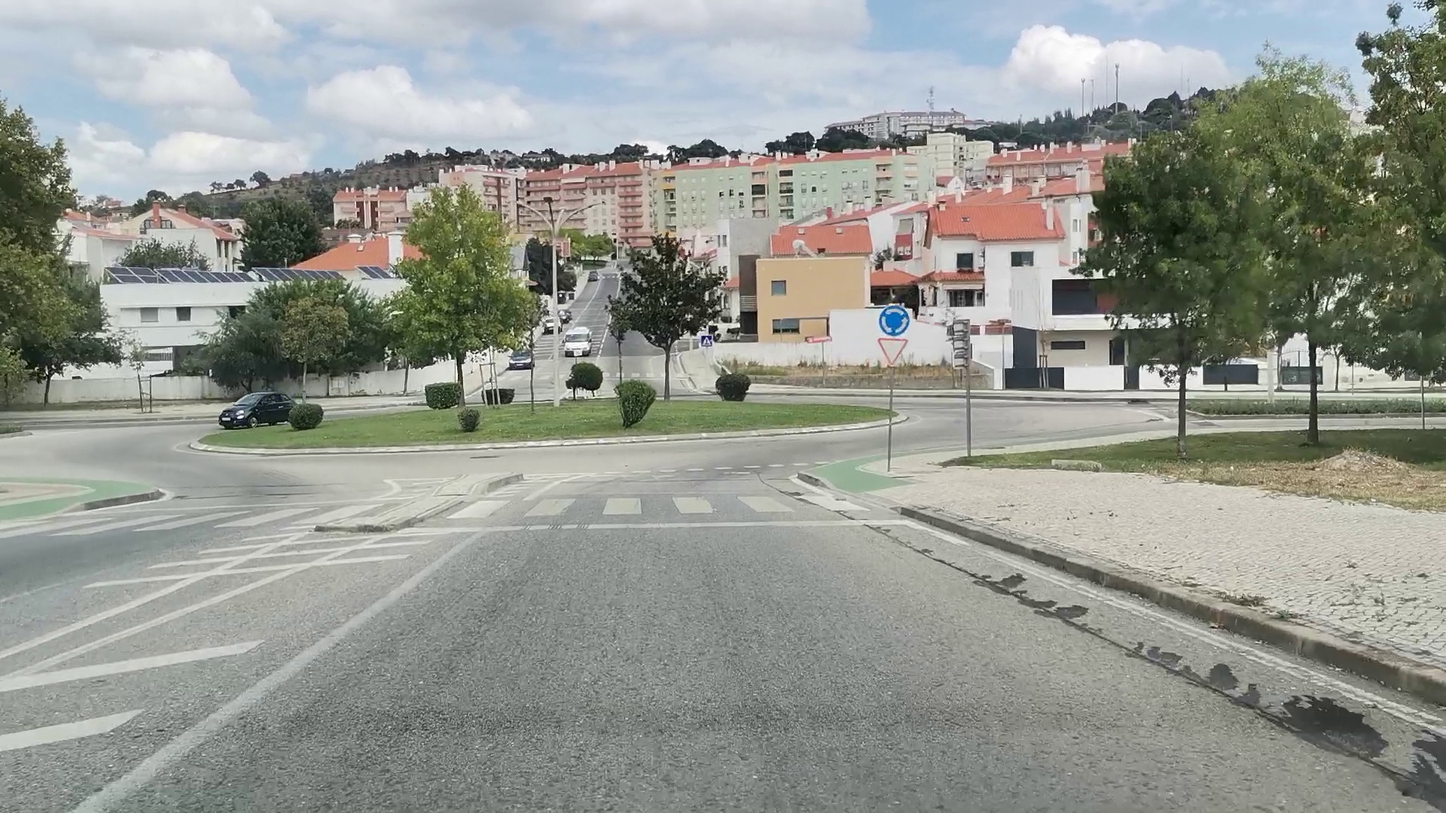Stairs: (0, 504, 387, 541), (438, 489, 872, 516)
